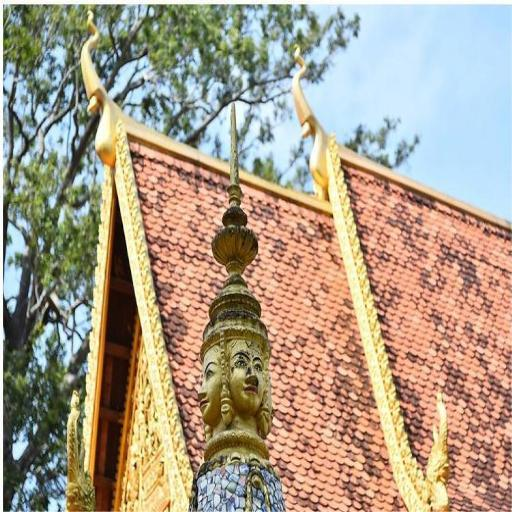lua: (285, 34, 347, 218), (74, 3, 130, 182)
ran: (47, 386, 102, 512), (419, 384, 459, 512)
than: (183, 96, 288, 481), (222, 334, 267, 426), (195, 341, 227, 428)
